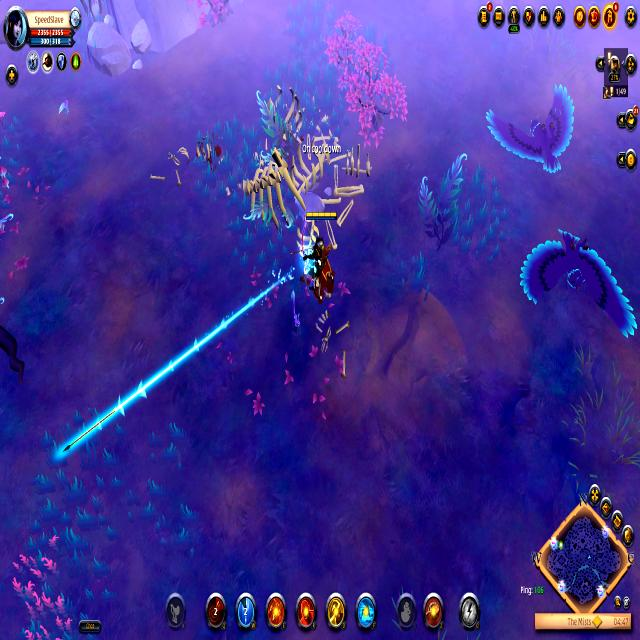red: (298, 202, 338, 294)
